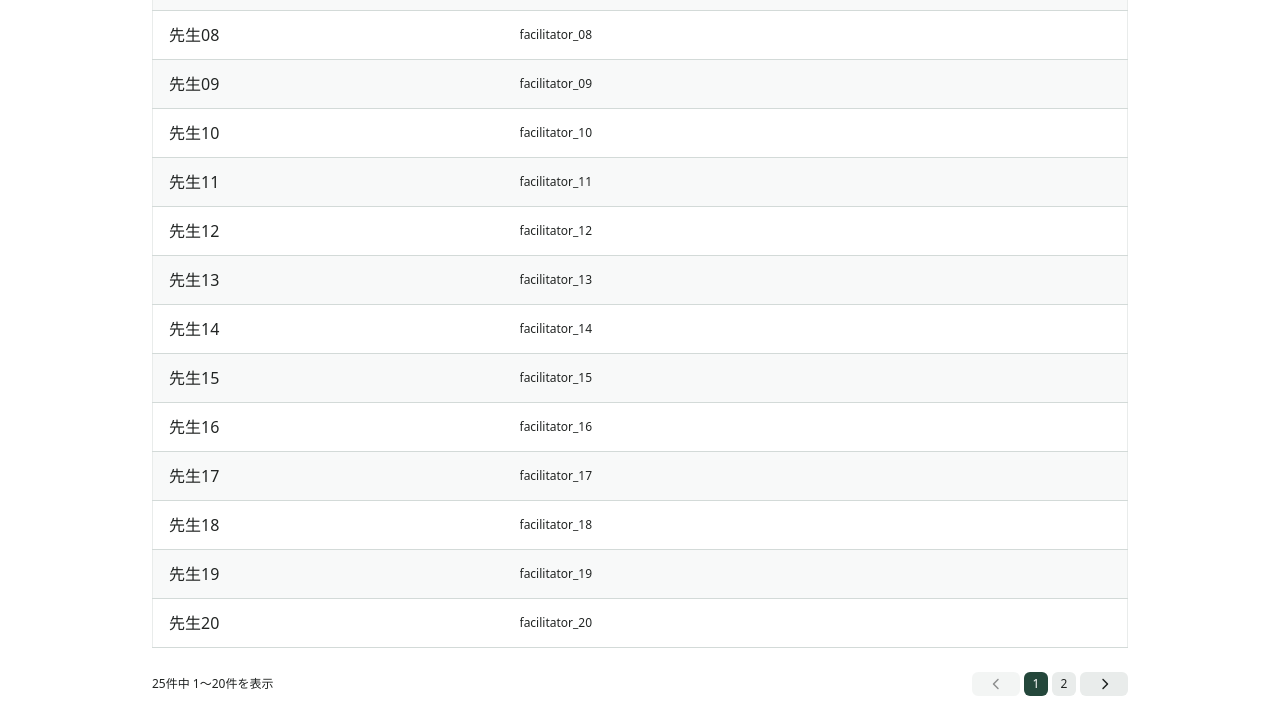
Test: FacilitatorListPage › 次のページに切り替えると 2 ページ目を表示する
(page scrolled)
Click the button named "次のページ": (1104, 684) [1080,672,1128,696]
(page scrolled)
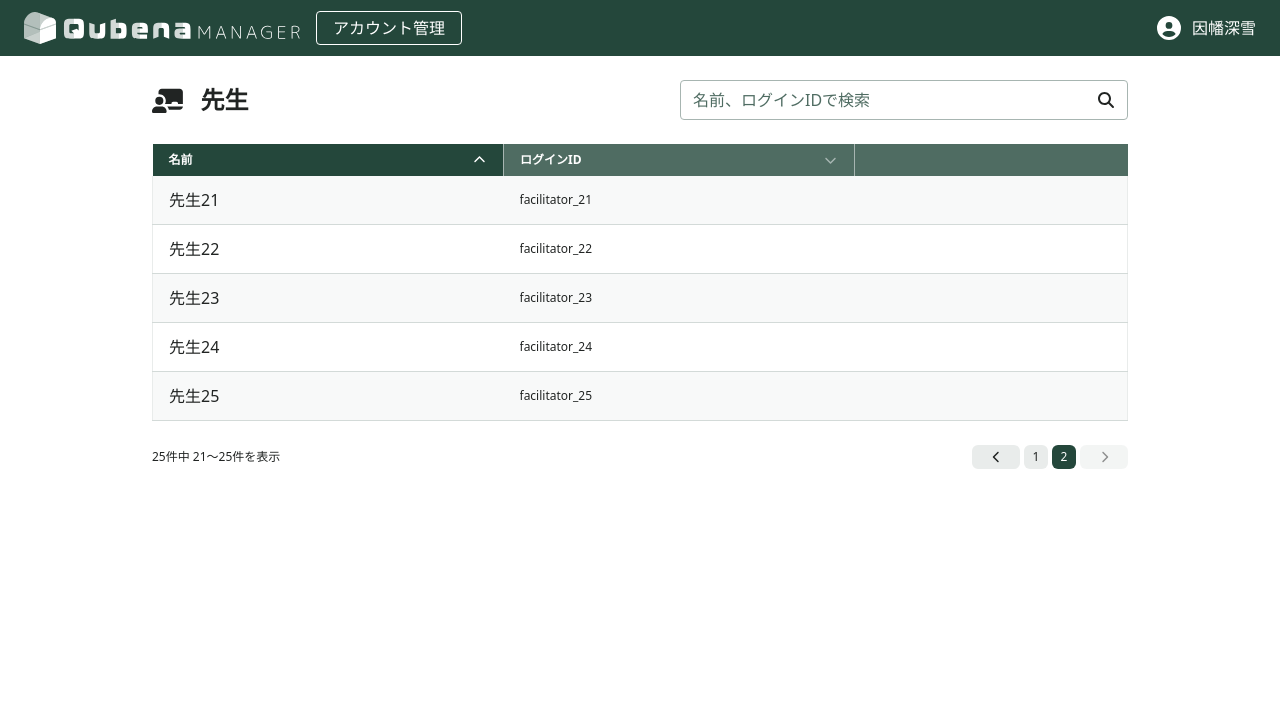
Expected: the text "先生21" is shown, [169,189,219,211]
Expected: the text "25件中 21〜25件を表示" is shown, [152,449,280,465]
